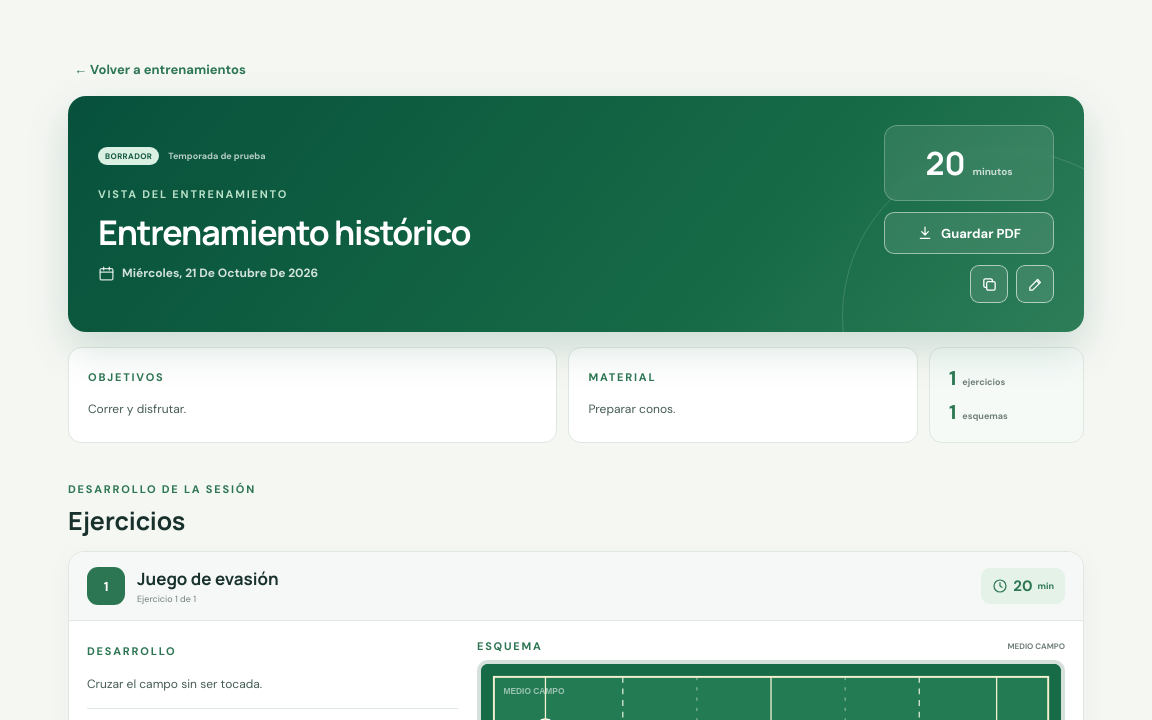
Scenario: training plan reading view › duplicates a past training plan from its detail into a future editable session
This screenshot has width=1152, height=720.
Click the button named "Duplicar entrenamiento" at (989, 284), box [970, 265, 1008, 303]
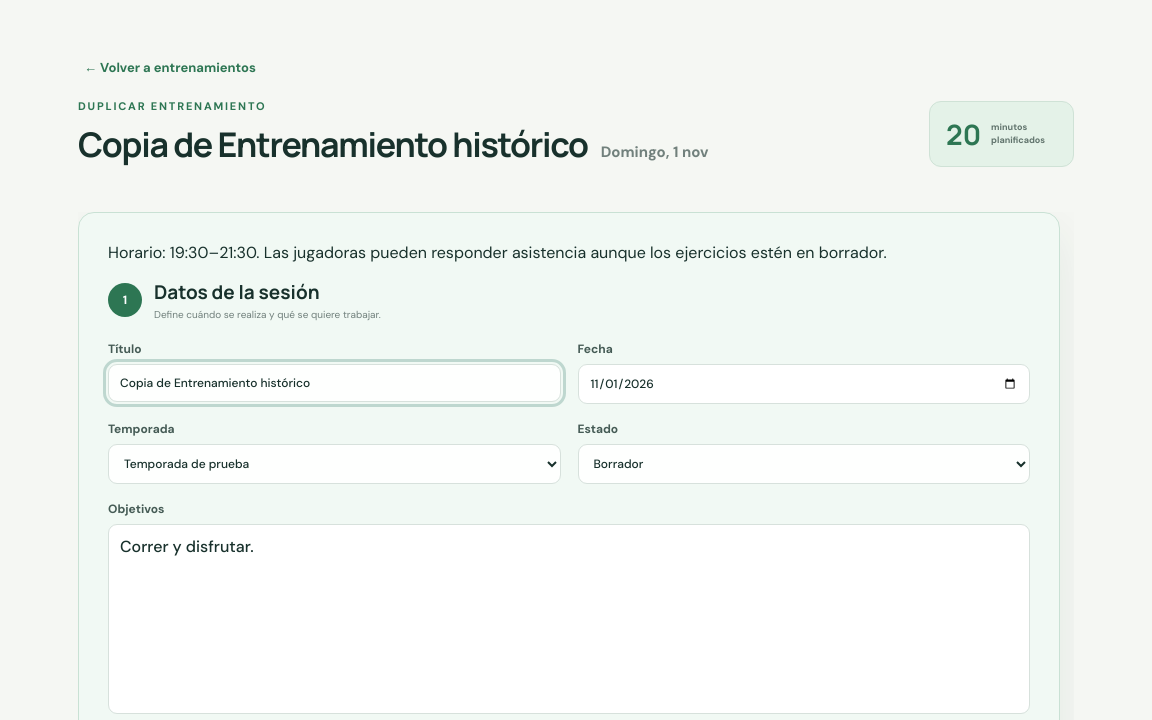
Now the text "DUPLICAR ENTRENAMIENTO" is shown, box [78, 99, 266, 113]
Now the field showing "Copia de Entrenamiento histórico" is shown, box [108, 364, 560, 402]
